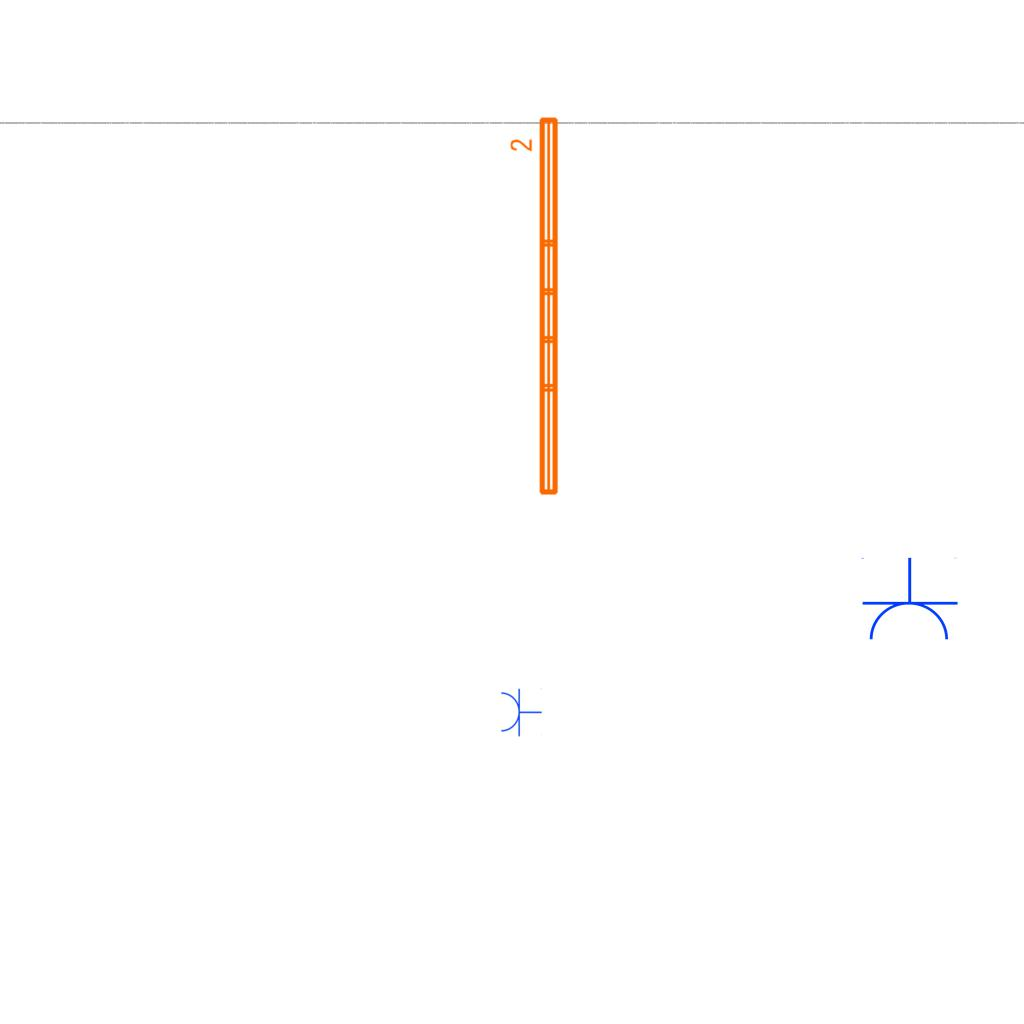Ambulanz_Pendelleuchte_LED: (508, 113, 564, 500)
Schukosteckdose_einfach: (859, 557, 959, 644), (499, 687, 542, 737)
